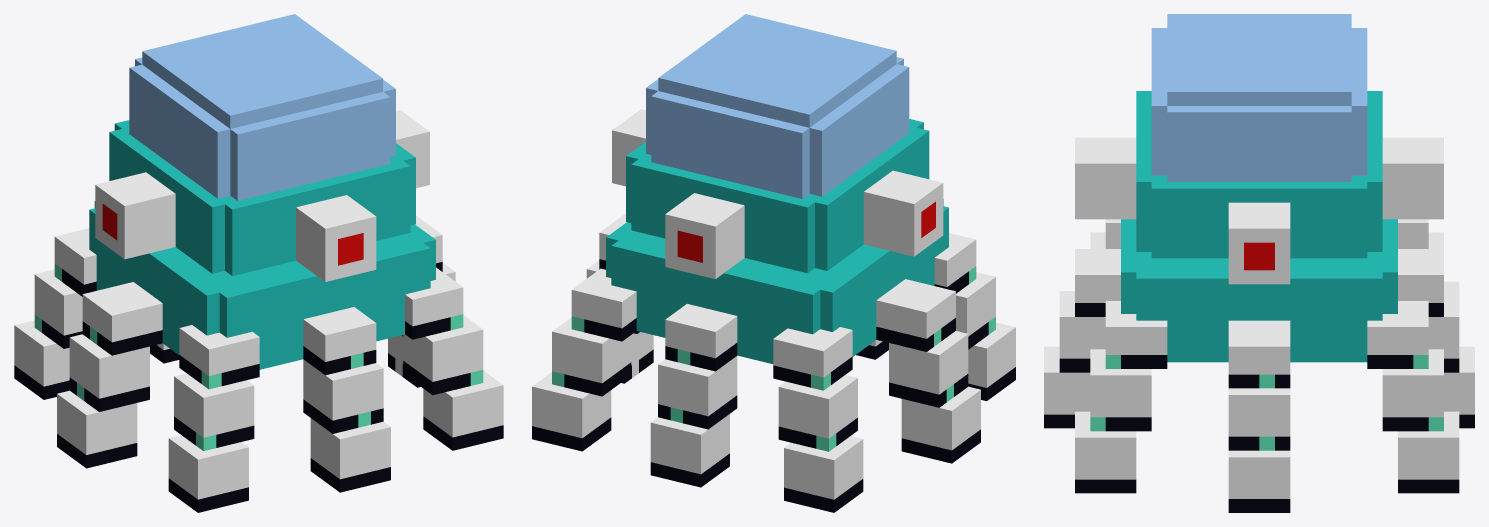
File: Liq_ranged-idle.vox.obj
3 renders of one model, left to right at view 1: azimuth 30°, elevation 25°; view 2: azimuth 150°, elevation 25°; view 3: azimuth 270°, elevation 25°, orthographic. The views are drawn at different scales.
Bounding box in the file's own units: 3 × 2.6 × 2.8.
1 material, 1 textured.
